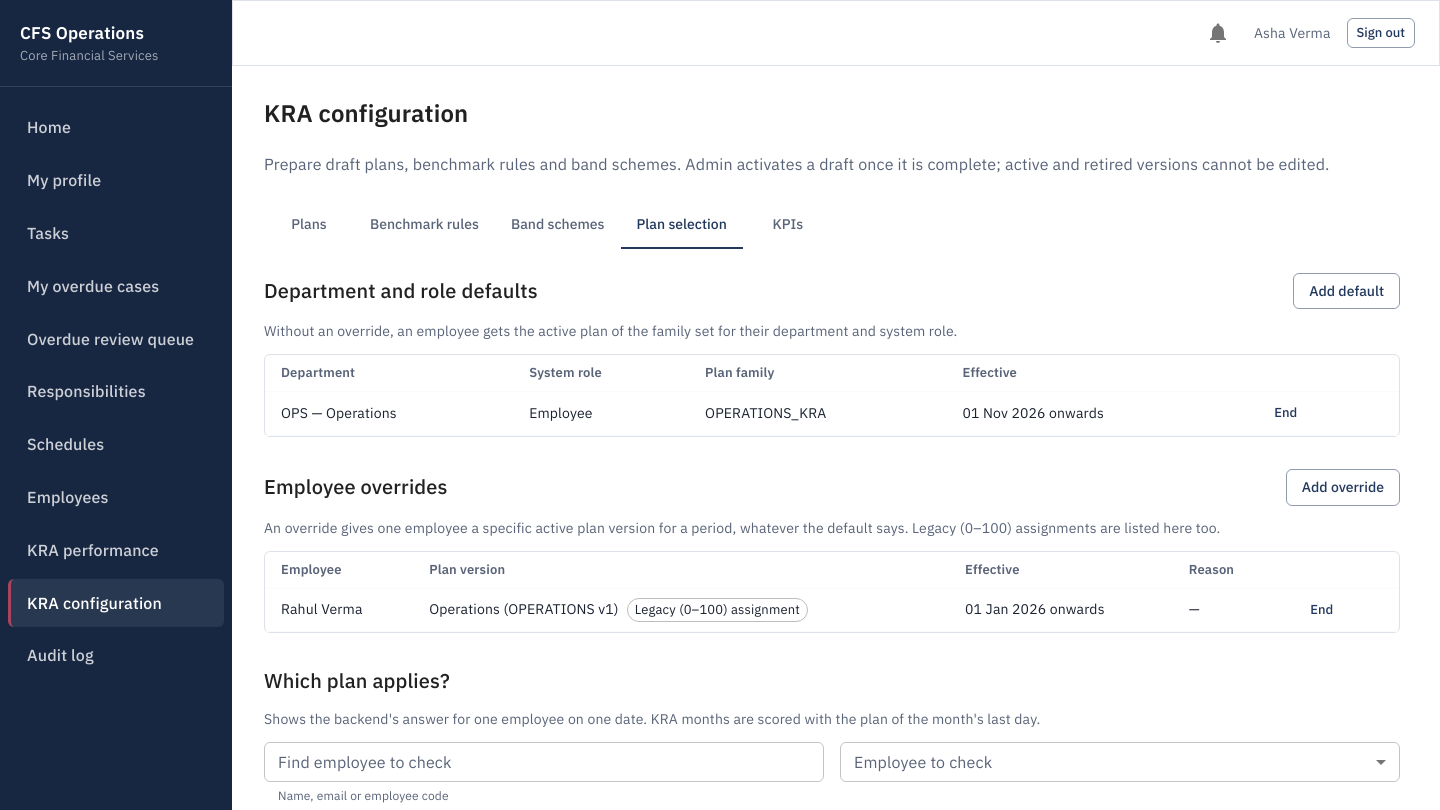
Test case: Plan selection (Phase 7.5A) › shows the backend's plan check answer as given, including an ambiguous role
The image size is (1440, 810).
Click the dropdown named "Employee to check".
click(1120, 762)  # box left=840, top=742, right=1400, bottom=782
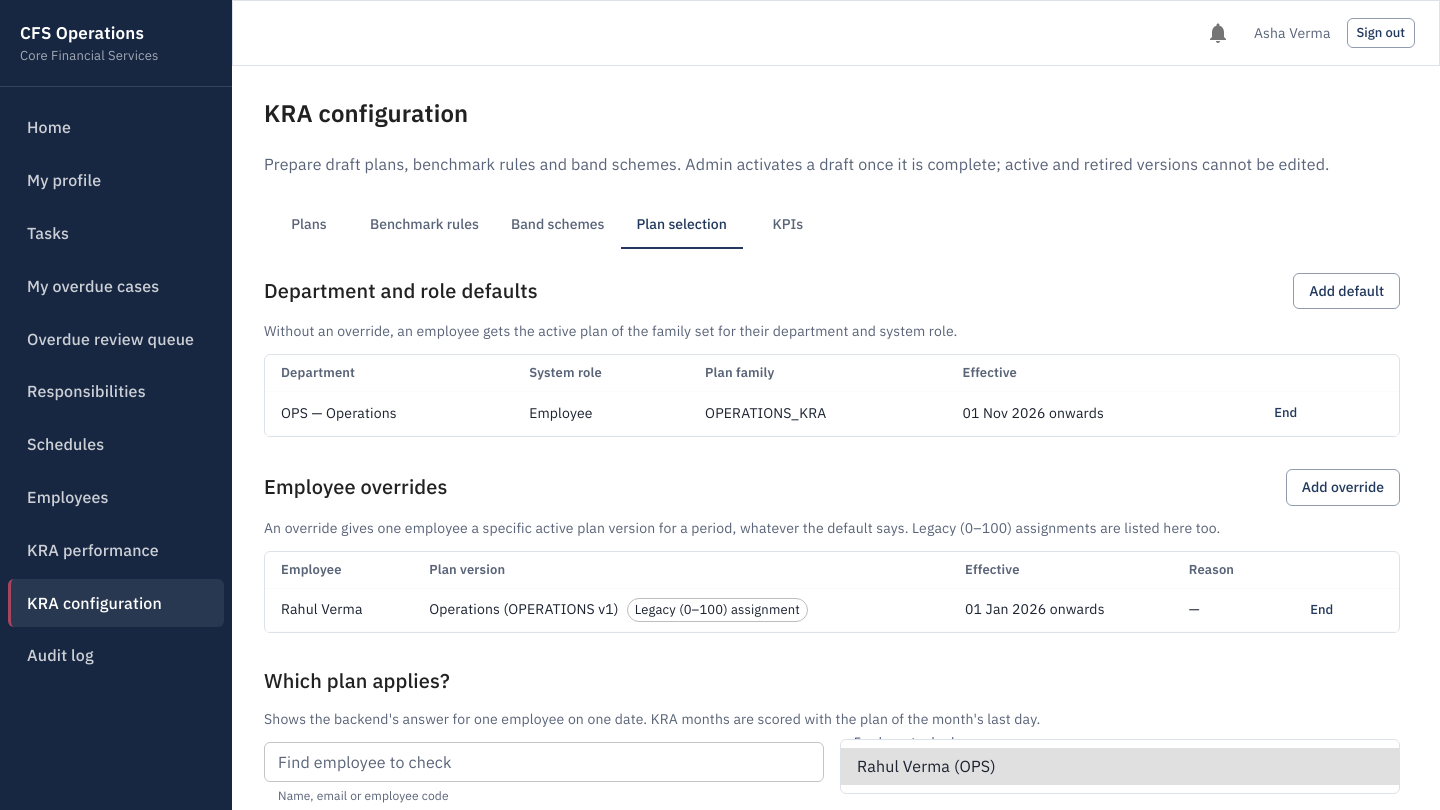
Click the option "Rahul Verma (OPS)".
click(904, 766)  # box left=841, top=748, right=1399, bottom=785
(page scrolled)
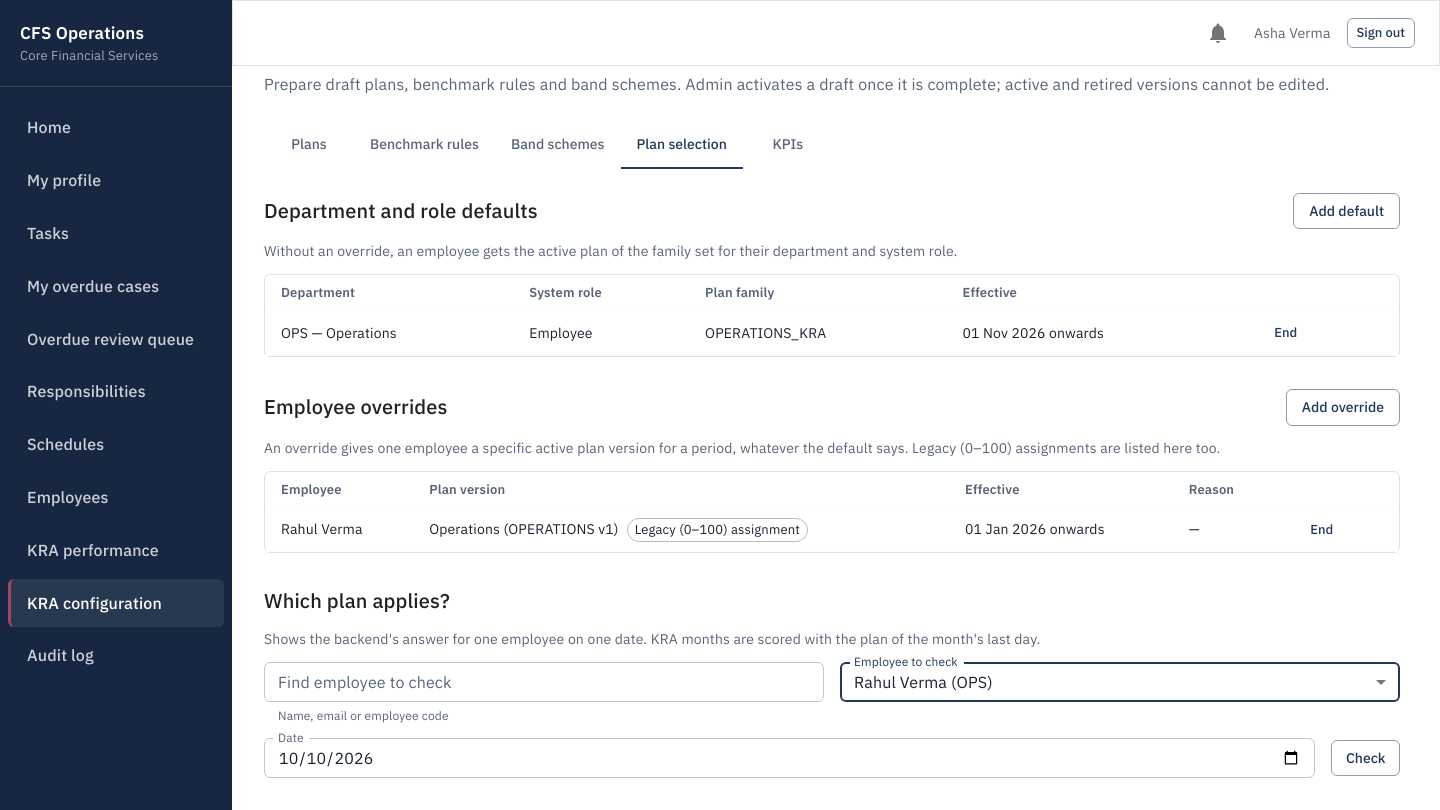
Type "2026-11-30" into the date field labelled "Date".
click(790, 758); type("2026-11-30")  # box left=264, top=738, right=1315, bottom=778
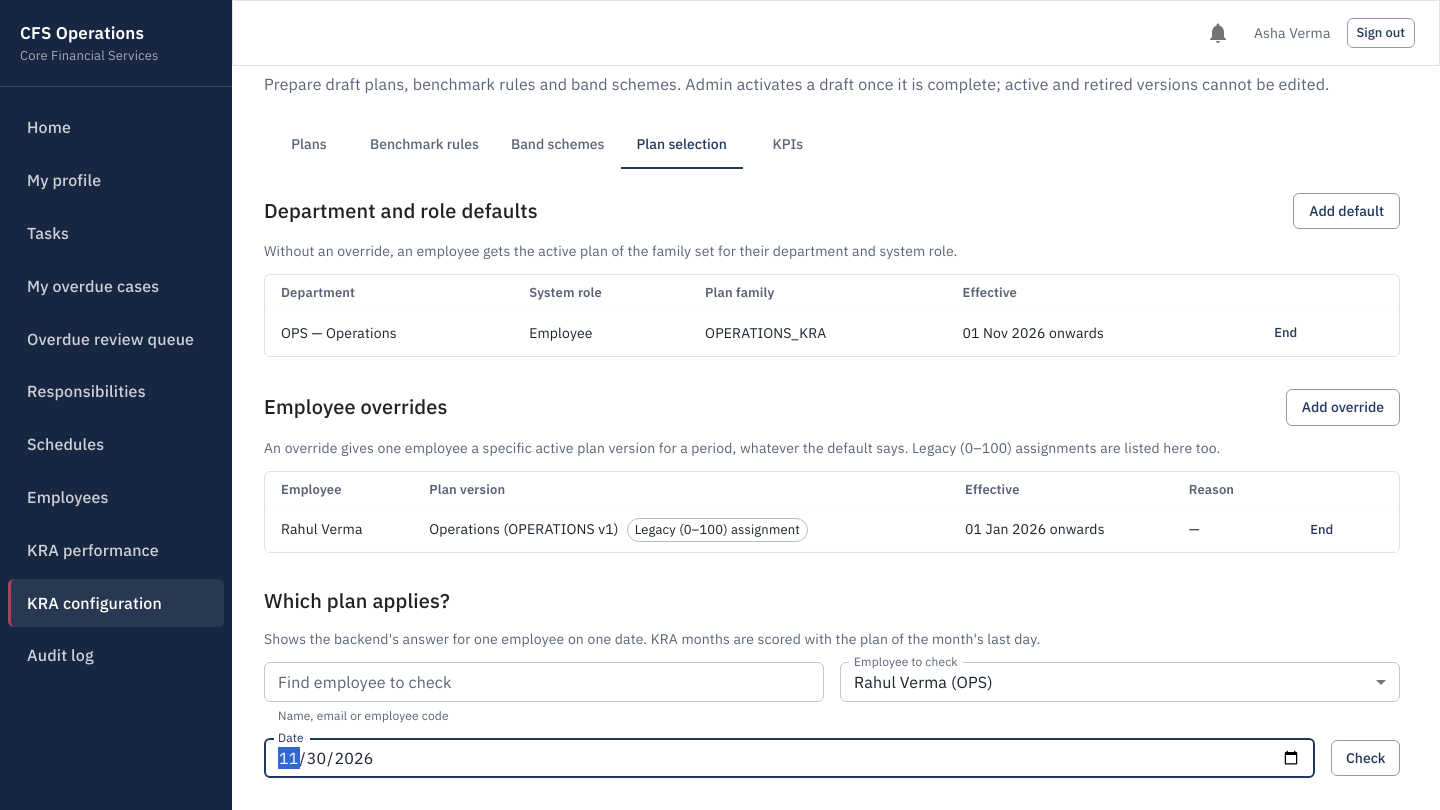
Click the button "Check".
click(1366, 758)  # box left=1331, top=740, right=1400, bottom=776
(page scrolled)
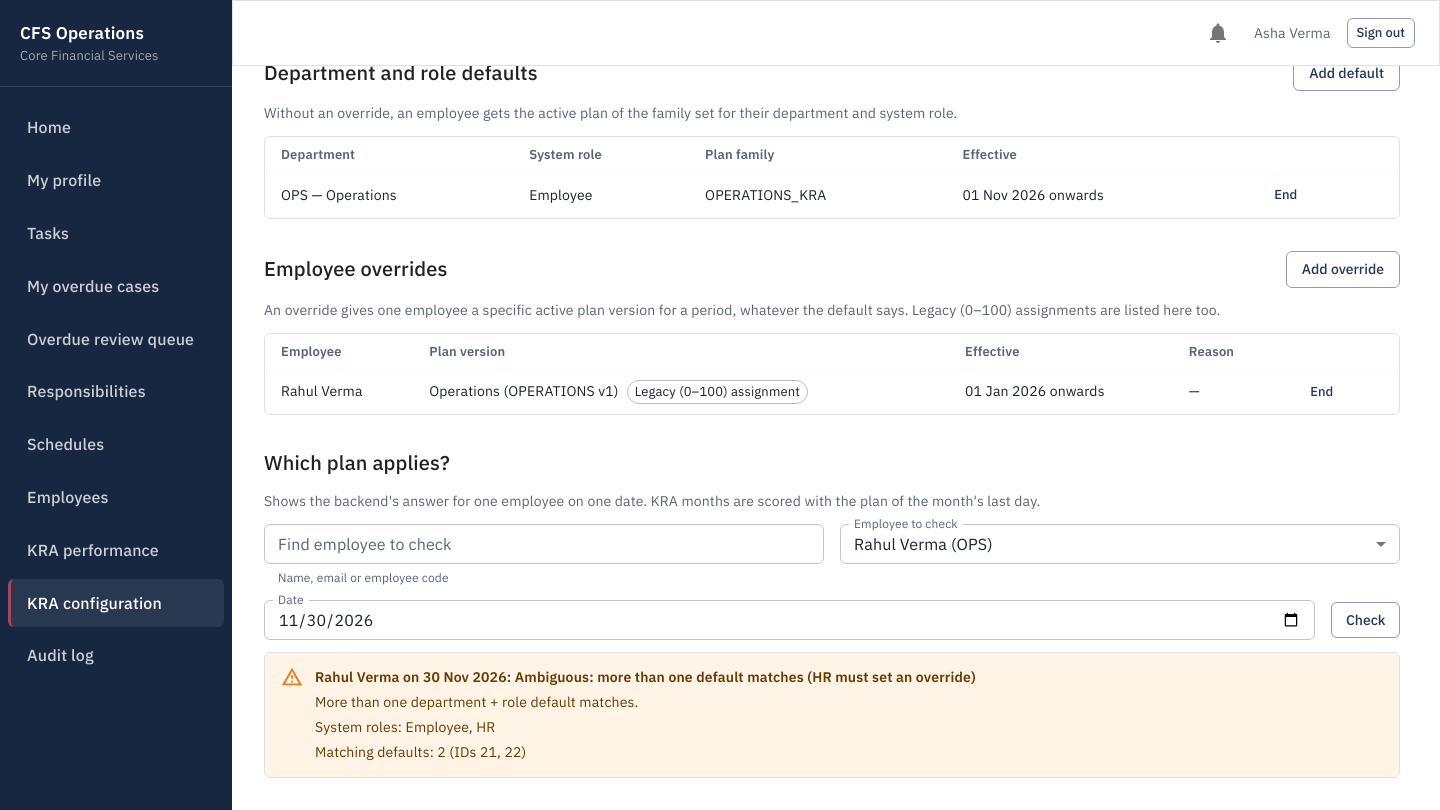
Expected: the message named "Plan check result" shows "Rahul Verma on 30 Nov 2026: Ambiguous: more than one default matches", left=264, top=652, right=1400, bottom=778
Expected: the message named "Plan check result" shows "More than one department + role default matches.", left=315, top=693, right=638, bottom=711
Expected: the message named "Plan check result" shows "System roles: Employee, HR", left=264, top=652, right=1400, bottom=778
